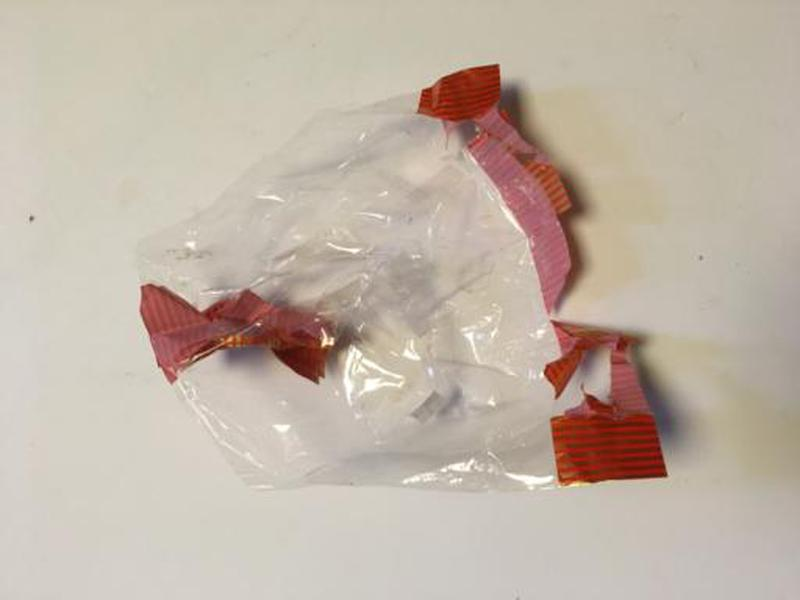plastic: (137, 61, 672, 503)
